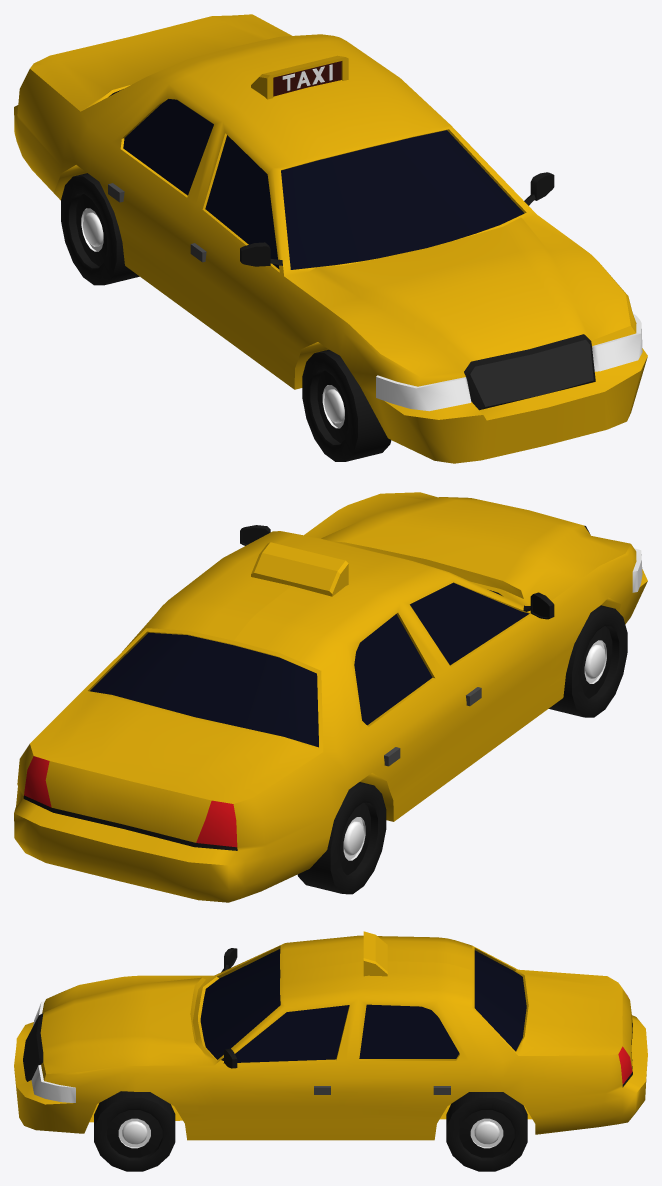
File: vehicle_6.fbx
The picture shows the model from 3 angles, top to bottom: view 1: azimuth 30°, elevation 25°; view 2: azimuth 150°, elevation 25°; view 3: azimuth 270°, elevation 25°; orthographic projection. The views are drawn at different scales.
Visible parts, largest first — view 1: Mirror, Mirror.002, Mirror.004; view 2: Mirror, Mirror.004, Mirror.002; view 3: Mirror, Tire_1, Mirror.003.
Boxes of the visible parts, left/top/right/bottom form: Mirror: left=14, top=14, right=647, bottom=463; Mirror.002: left=302, top=349, right=391, bottom=461; Mirror.004: left=61, top=173, right=139, bottom=285; Mirror: left=14, top=492, right=647, bottom=902; Mirror.004: left=297, top=782, right=386, bottom=894; Mirror.002: left=548, top=605, right=627, bottom=717; Mirror: left=14, top=931, right=647, bottom=1140; Tire_1: left=94, top=1091, right=175, bottom=1171; Mirror.003: left=446, top=1092, right=527, bottom=1171.
Size of the model in its own units: 160 by 119 by 384.
